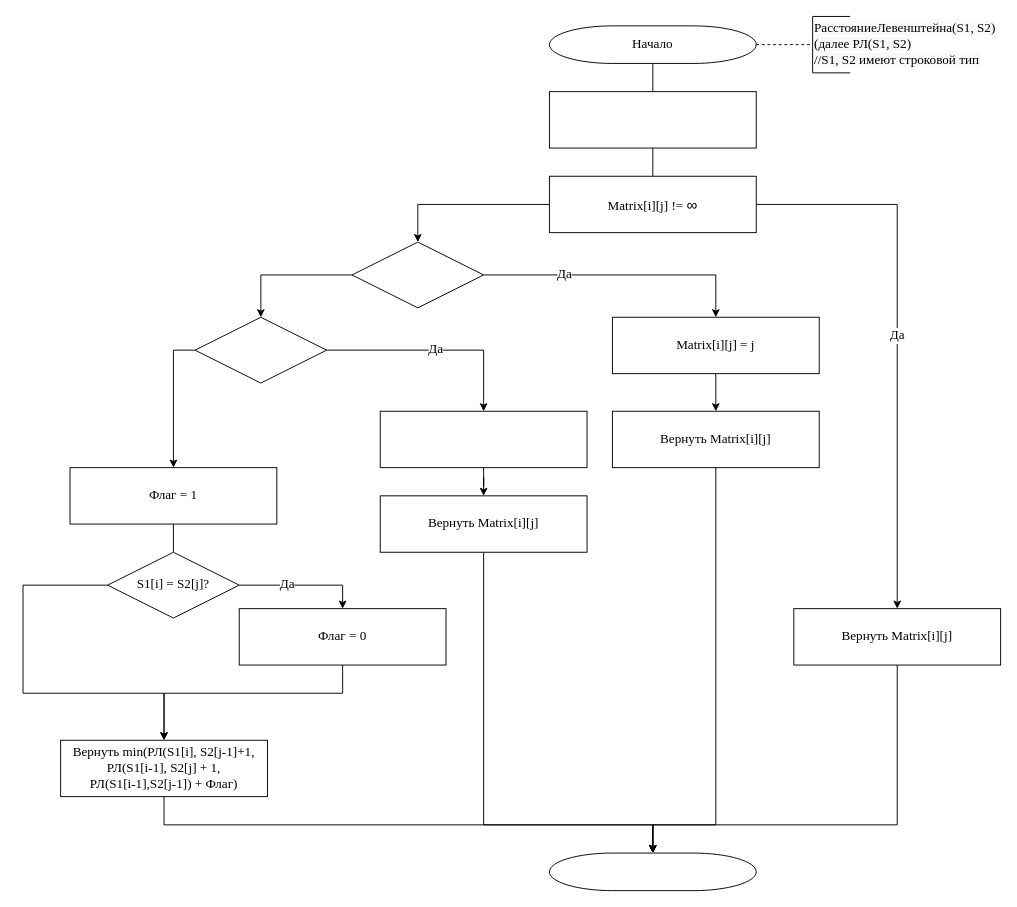
The diagram is 1017 pixels wide and 907 high, and some of its shapes have lost their labels. Each missing label, with the box of its shape:
i = 0?: (351, 241, 484, 308)
i = Длина(S1) j = Длина(S2): (548, 91, 756, 148)
j = 0?: (194, 316, 327, 383)
Matrix[i][j] = i: (379, 410, 587, 468)
Конец: (548, 852, 756, 891)
